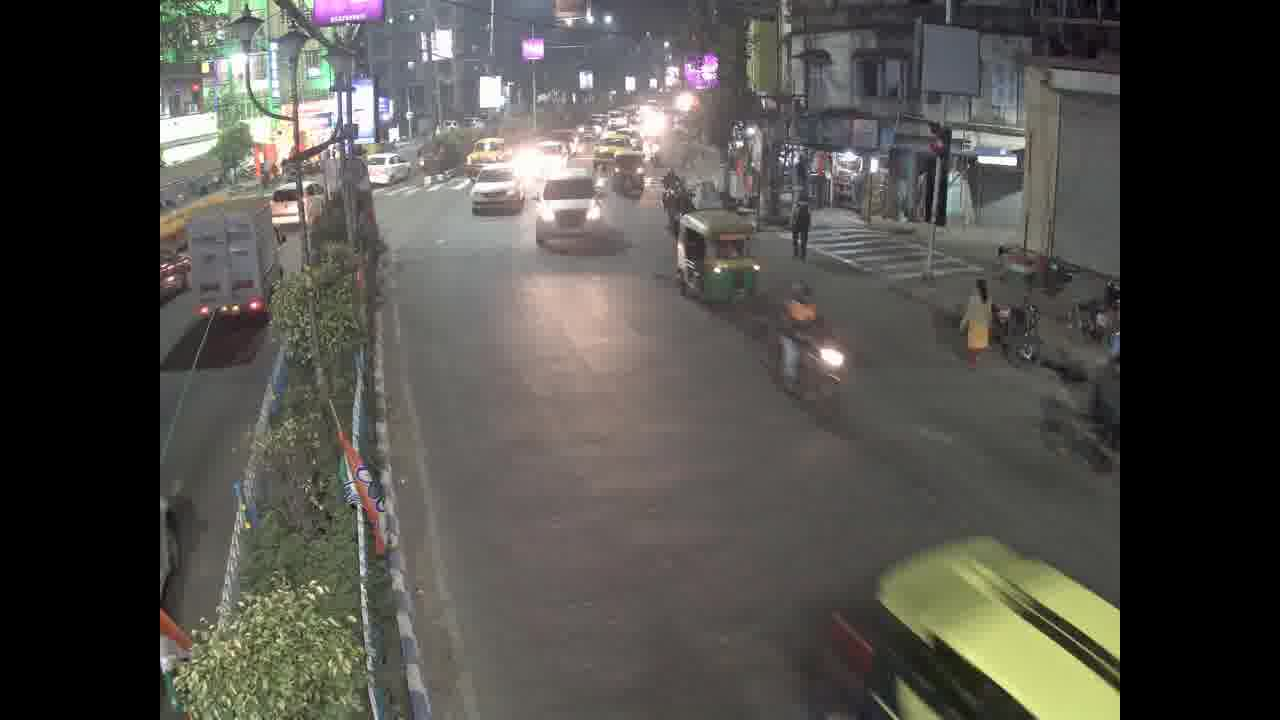auto-rickshaw: (684, 218, 759, 314), (613, 156, 653, 205)
bike: (942, 284, 1043, 361)
car: (530, 175, 617, 250), (459, 165, 524, 210), (459, 132, 510, 165)
person: (775, 279, 818, 390), (956, 258, 999, 364), (786, 190, 815, 262)
